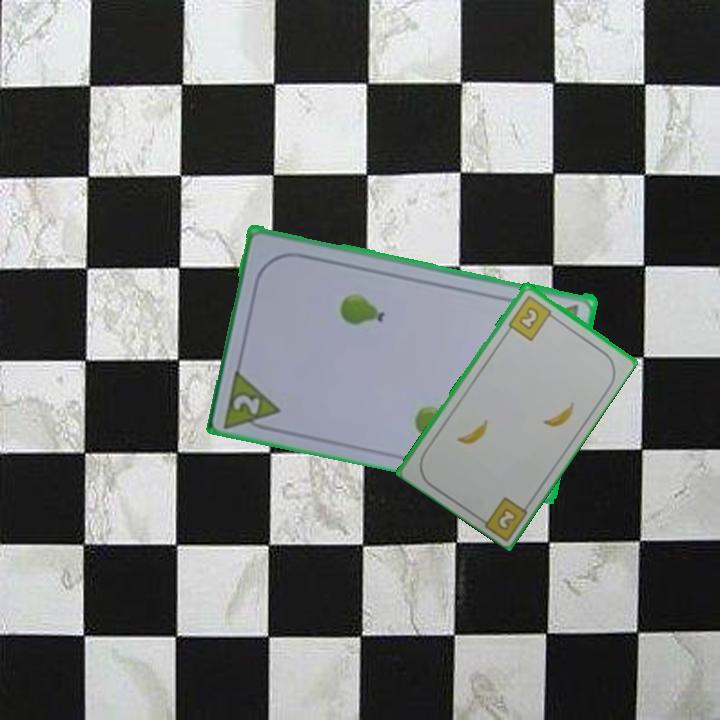2b: (505, 291, 558, 343), (493, 504, 520, 533)
2p: (220, 364, 285, 435)
